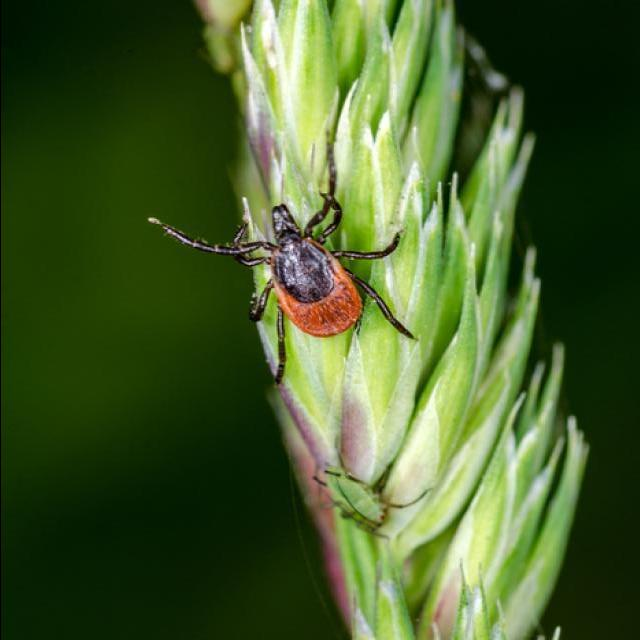Ixodes Ricinus-F: (148, 155, 415, 385)
